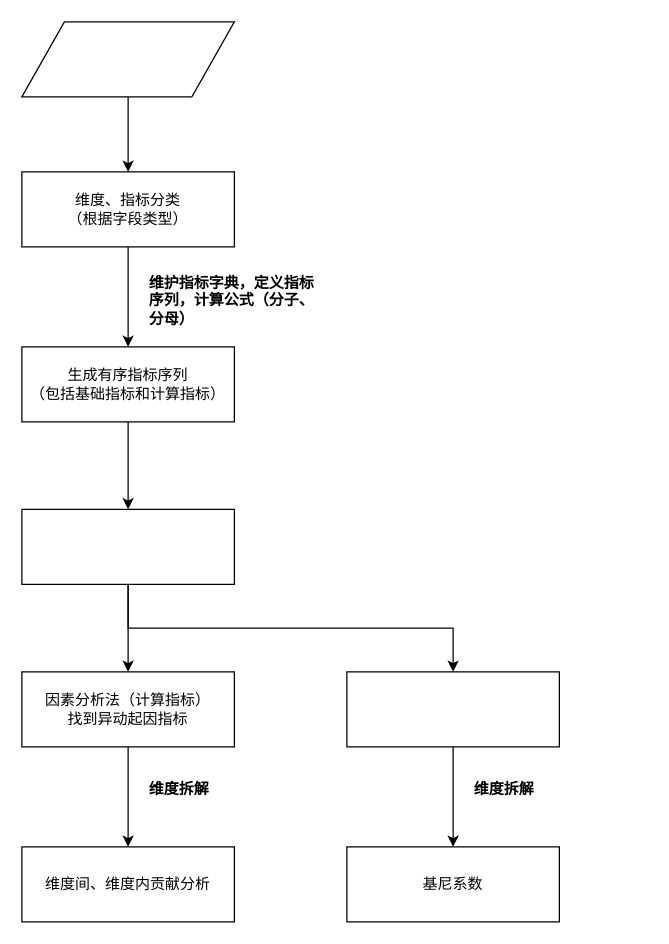
This 669x944 diagram has some shape labels left out. Each missing label, with the centre of its shape:
因素分析法（基础指标） 找到异动起因指标: (x=452, y=709)
数据异常诊断 （从后验指标往前诊断）: (x=127, y=546)
数据源: (x=127, y=59)
